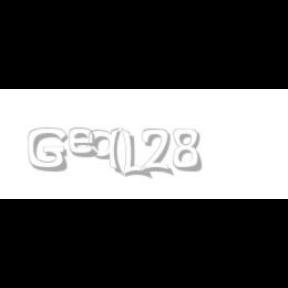2: (138, 128, 172, 176)
8: (172, 128, 202, 172)
G: (28, 128, 68, 172)
L: (121, 128, 149, 180)
e: (68, 128, 102, 158)
q: (88, 128, 124, 176)
